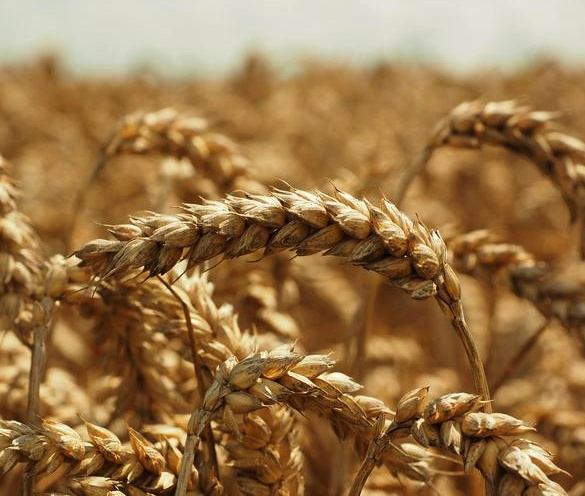wheat: (192, 346, 559, 496), (52, 184, 463, 317)
